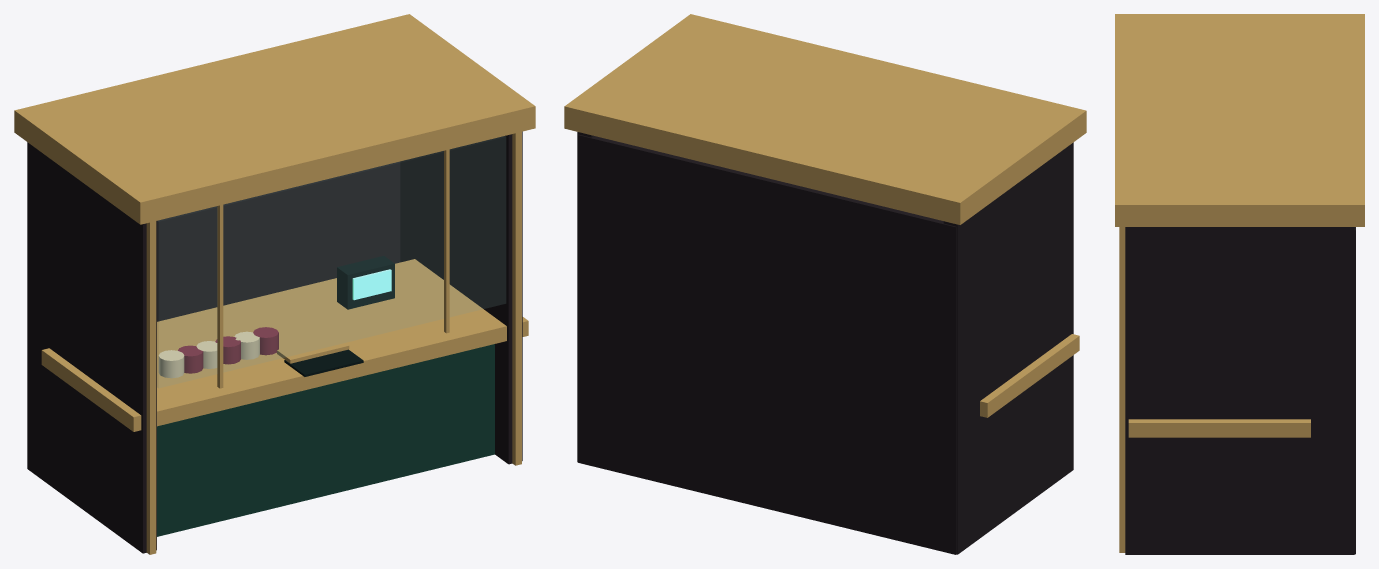
The model's file is cashier.glb.
The picture shows the model from 3 angles, left to right: view 1: azimuth 30°, elevation 25°; view 2: azimuth 150°, elevation 25°; view 3: azimuth 270°, elevation 25°; orthographic projection.
Size of the model in its own units: 3.35 by 2.89 by 1.85.
